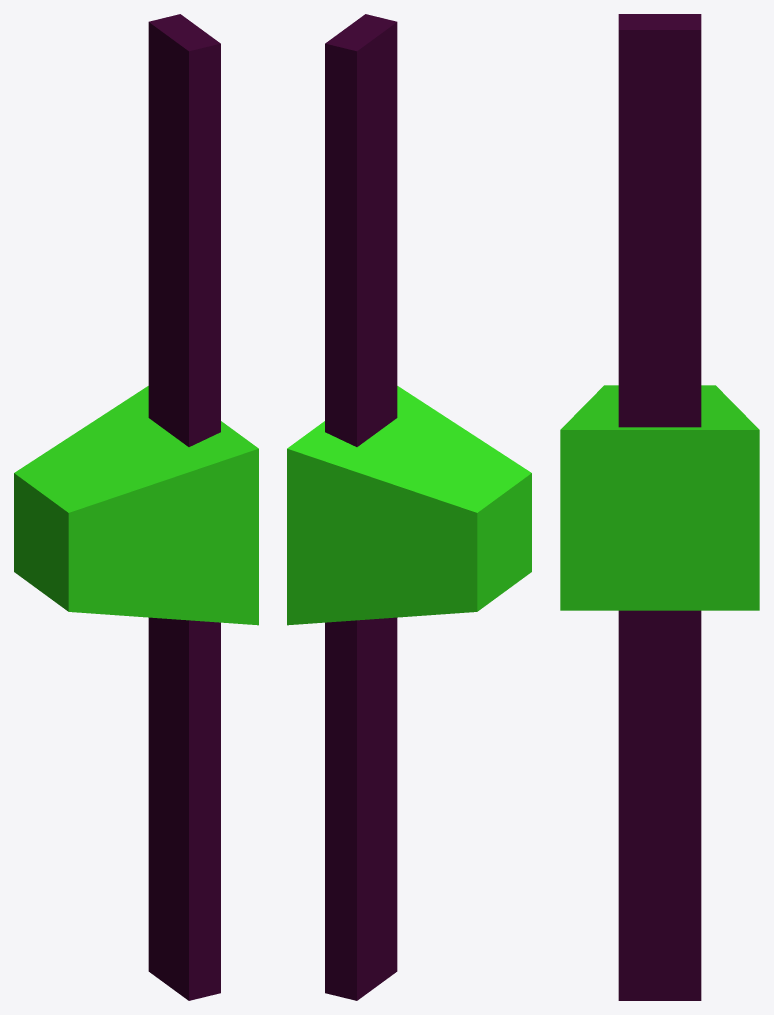
Rendered from UpDown.fbx.
3 views of the same model, side by side, from view 1: azimuth 30°, elevation 25°; view 2: azimuth 150°, elevation 25°; view 3: azimuth 270°, elevation 25° (orthographic). The views are drawn at different scales.
Parts seen in each view (by area): view 1: Cube, Cube.001; view 2: Cube, Cube.001; view 3: Cube, Cube.001.
Part boxes in pixels (<box>): Cube: <box>148,14,220,1000</box>; Cube.001: <box>14,386,258,625</box>; Cube: <box>325,14,397,1000</box>; Cube.001: <box>287,386,531,625</box>; Cube: <box>618,14,701,1000</box>; Cube.001: <box>560,385,759,610</box>.
Bounding box in the file's own units: 19.45 × 105 × 19.45.
